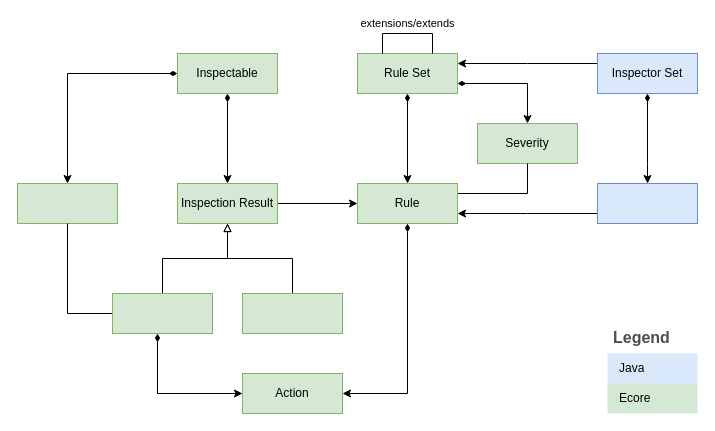
The diagram is 715 pixels wide and 431 high, and some of its shapes have lost their labels. The box of each missing label's shape, as (x1, y1, x2, y2) in pixels:
Failure: (242, 292, 342, 334)
Inspector: (596, 182, 698, 224)
Violation: (112, 292, 212, 334)
Waiver: (16, 182, 118, 224)
